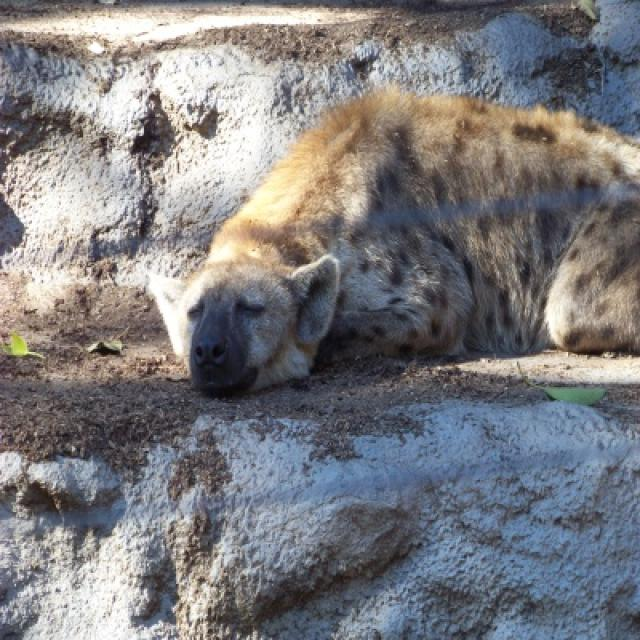hyena: (149, 85, 638, 398)
